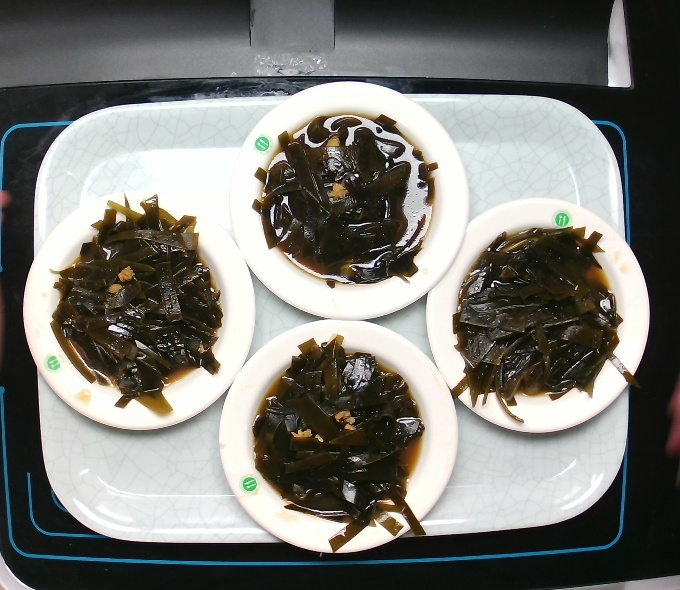wcq-HaiDai: (244, 339, 432, 530), (46, 214, 228, 411), (246, 110, 437, 290), (453, 227, 623, 419)
